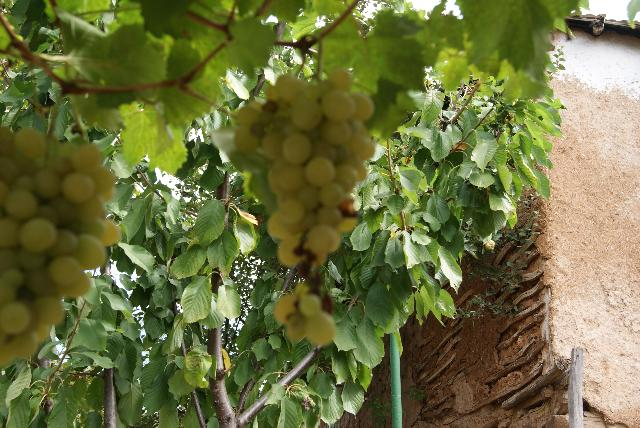grapes: (235, 69, 375, 346), (0, 128, 120, 366)
